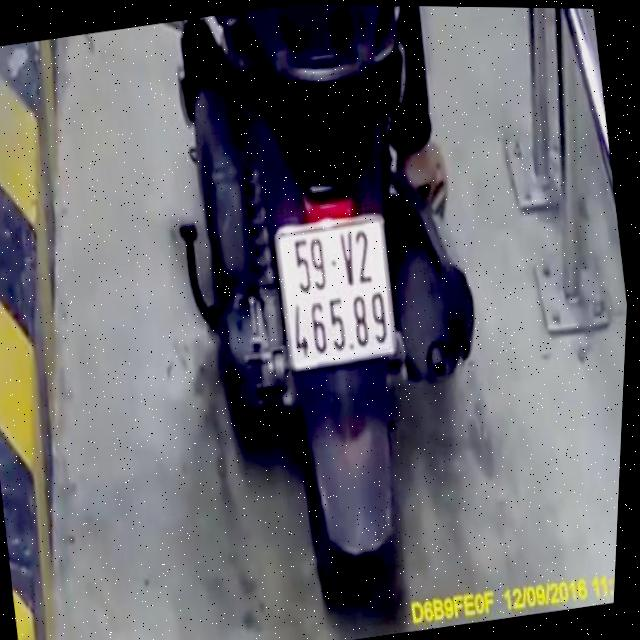motorcycle: (136, 2, 559, 631)
plate: (261, 204, 417, 377)
